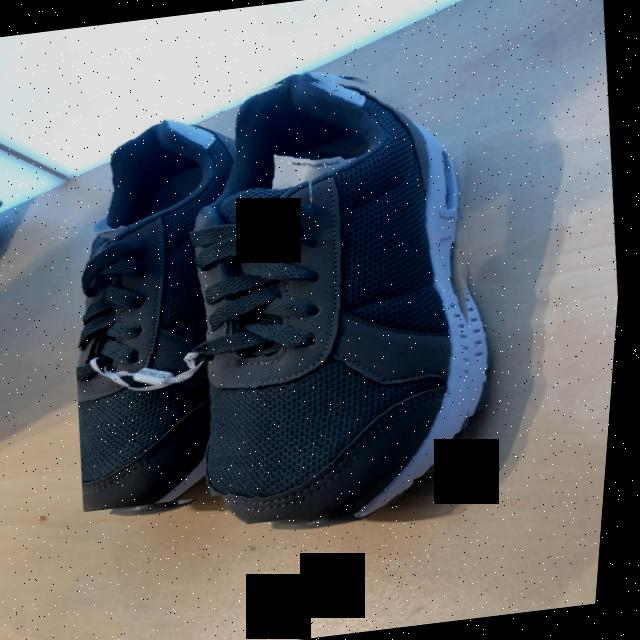shoe: (208, 79, 478, 520), (84, 117, 237, 509)
